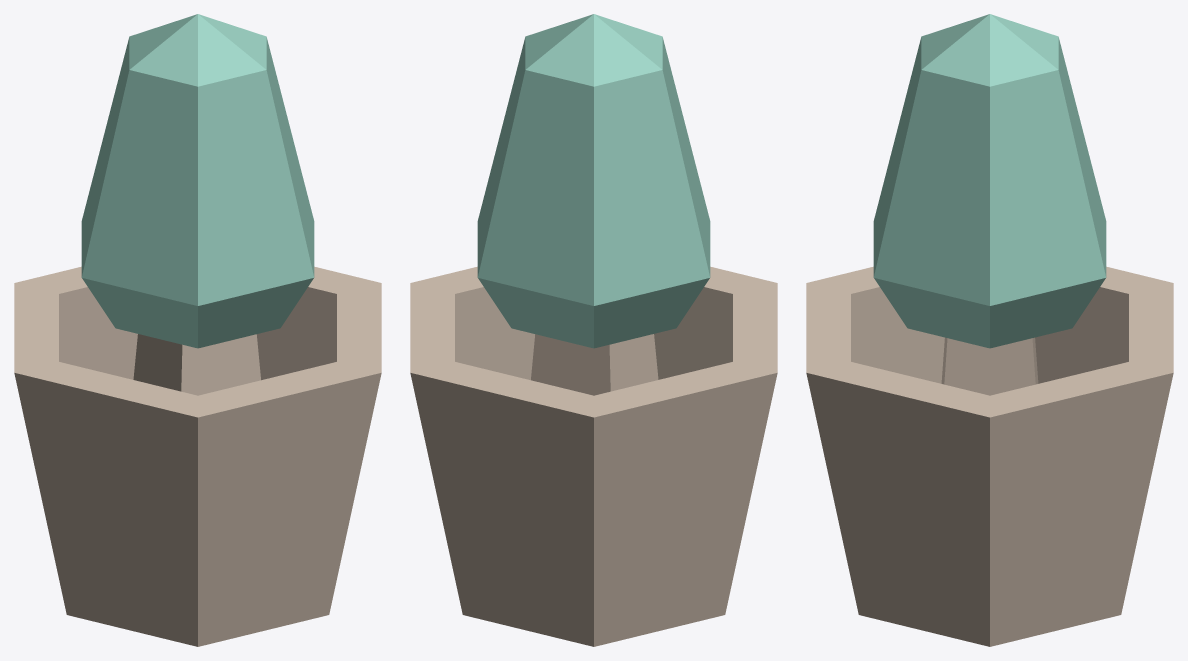
File: furn_plantSmall3.glb
3 views of the same model, side by side, from view 1: azimuth 30°, elevation 25°; view 2: azimuth 150°, elevation 25°; view 3: azimuth 270°, elevation 25° (orthographic).
Bounding box in the file's own units: 0.196 × 0.29 × 0.1697.
